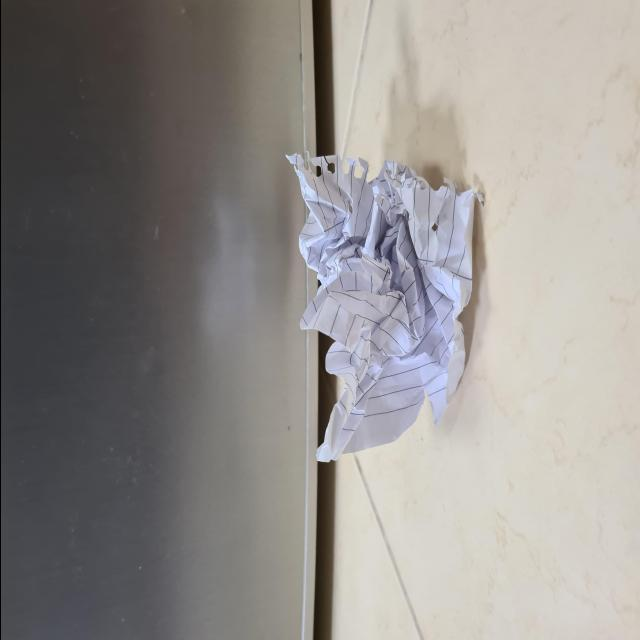kertas: (302, 138, 484, 470)
